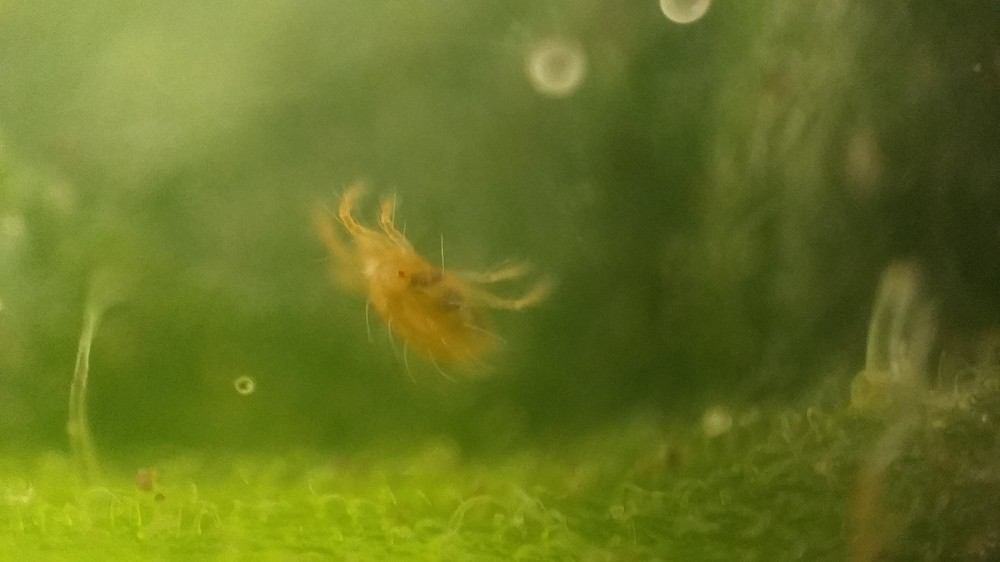Aracnido Rojo: (287, 174, 587, 395)
